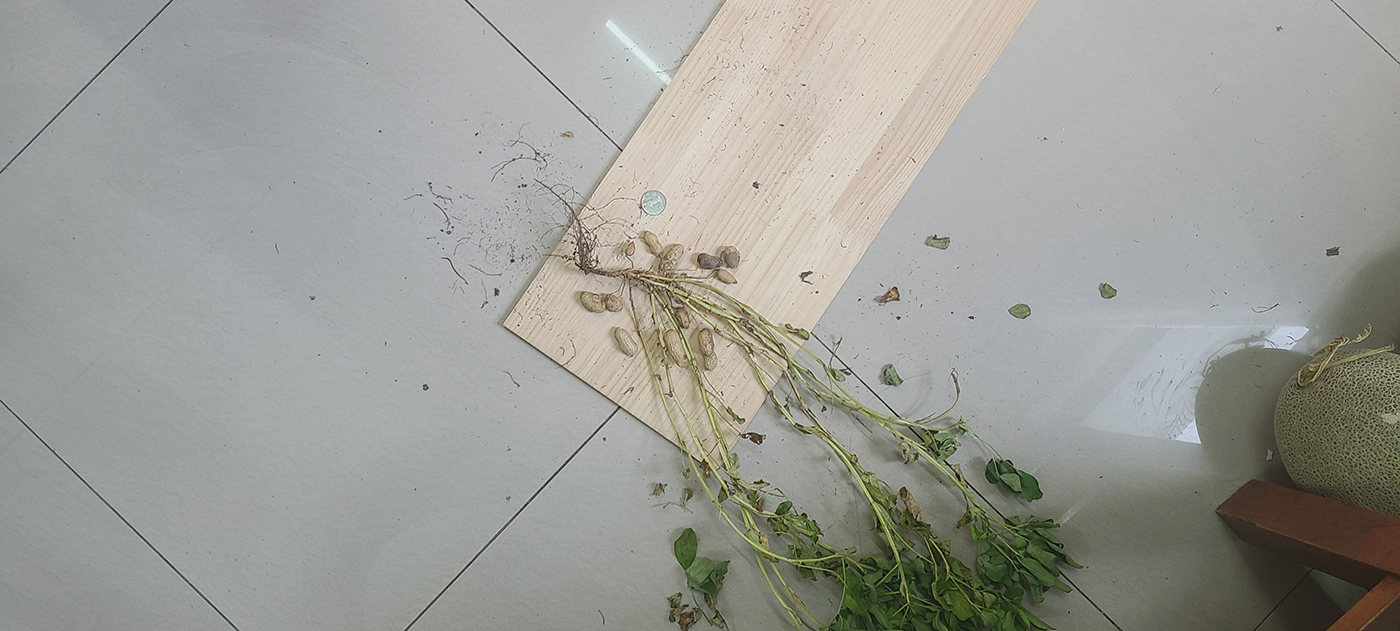h: (665, 330, 690, 369), (657, 243, 686, 276), (698, 328, 719, 370), (614, 327, 639, 358), (580, 290, 605, 312), (644, 230, 663, 256), (605, 292, 623, 313), (675, 307, 690, 330), (716, 269, 737, 285)
l: (723, 245, 742, 270), (697, 252, 723, 270)
